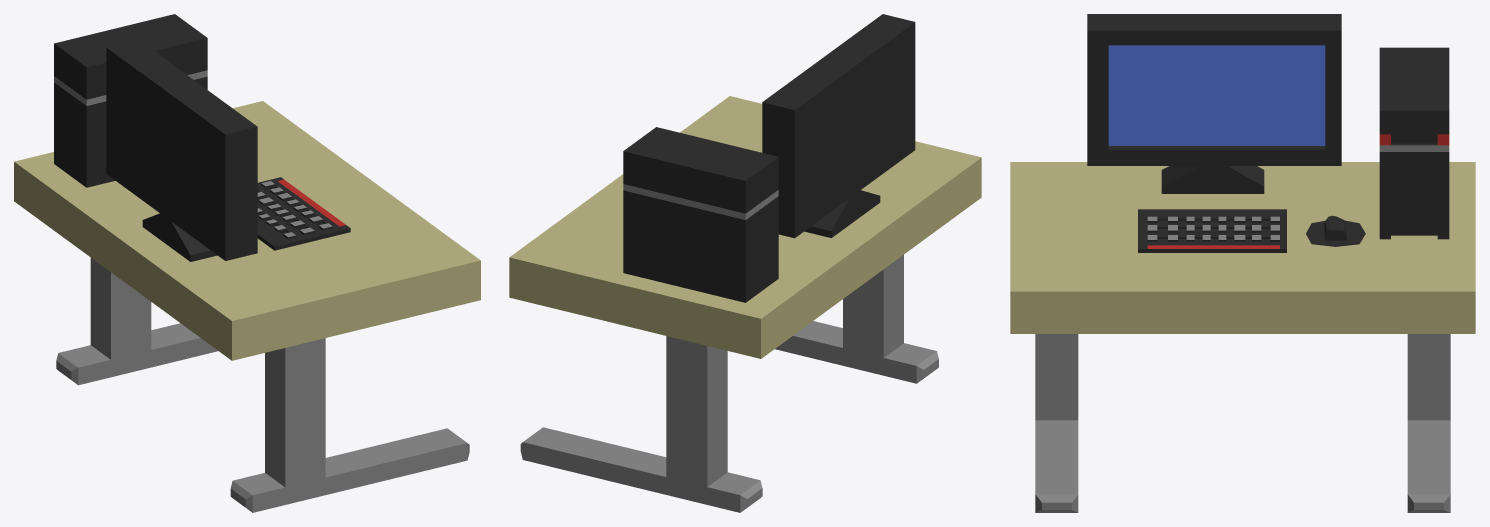
File: computer.fbx
The picture shows the model from 3 angles, left to right: view 1: azimuth 30°, elevation 25°; view 2: azimuth 150°, elevation 25°; view 3: azimuth 270°, elevation 25°; orthographic projection. The views are drawn at different scales.
Parts seen in each view (by area): view 1: Cube, Cube.001, Cube.002; view 2: Cube, Cube.001, Cube.002; view 3: Cube, Cube.001, Cube.002, Cube.004, Cube.003.
Part boxes in pixels (left/top/right/bottom): Cube: left=14, top=101, right=480, bottom=512; Cube.001: left=106, top=39, right=257, bottom=261; Cube.002: left=54, top=14, right=350, bottom=250; Cube: left=509, top=96, right=981, bottom=512; Cube.001: left=762, top=14, right=915, bottom=238; Cube.002: left=623, top=127, right=778, bottom=302; Cube: left=1010, top=162, right=1475, bottom=512; Cube.001: left=1087, top=14, right=1341, bottom=193; Cube.002: left=1138, top=47, right=1449, bottom=252; Cube.004: left=1306, top=220, right=1365, bottom=246; Cube.003: left=1324, top=215, right=1346, bottom=240.
Size of the model in its own units: 417 by 571 by 624.
